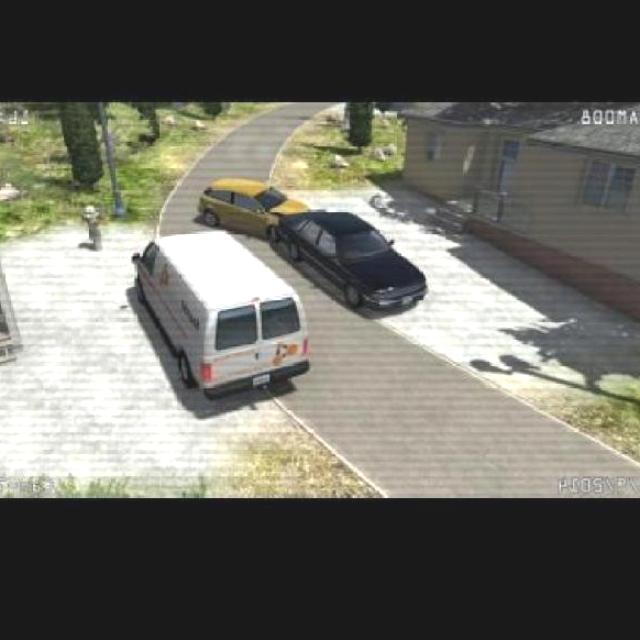accident: (192, 168, 404, 285)
